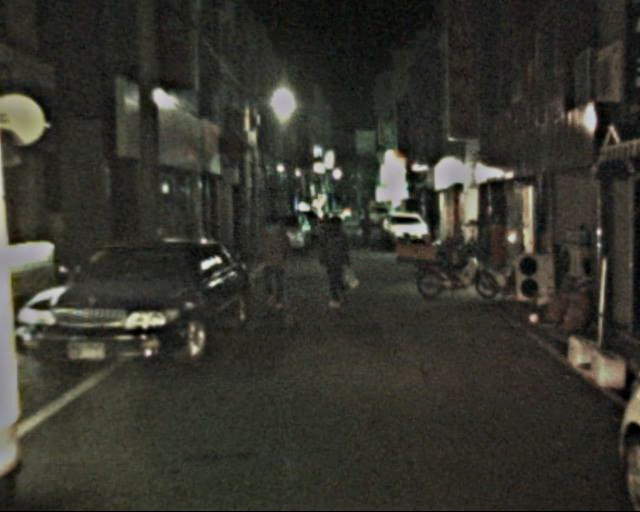person: (315, 216, 359, 313), (254, 213, 296, 312), (359, 214, 374, 251)
